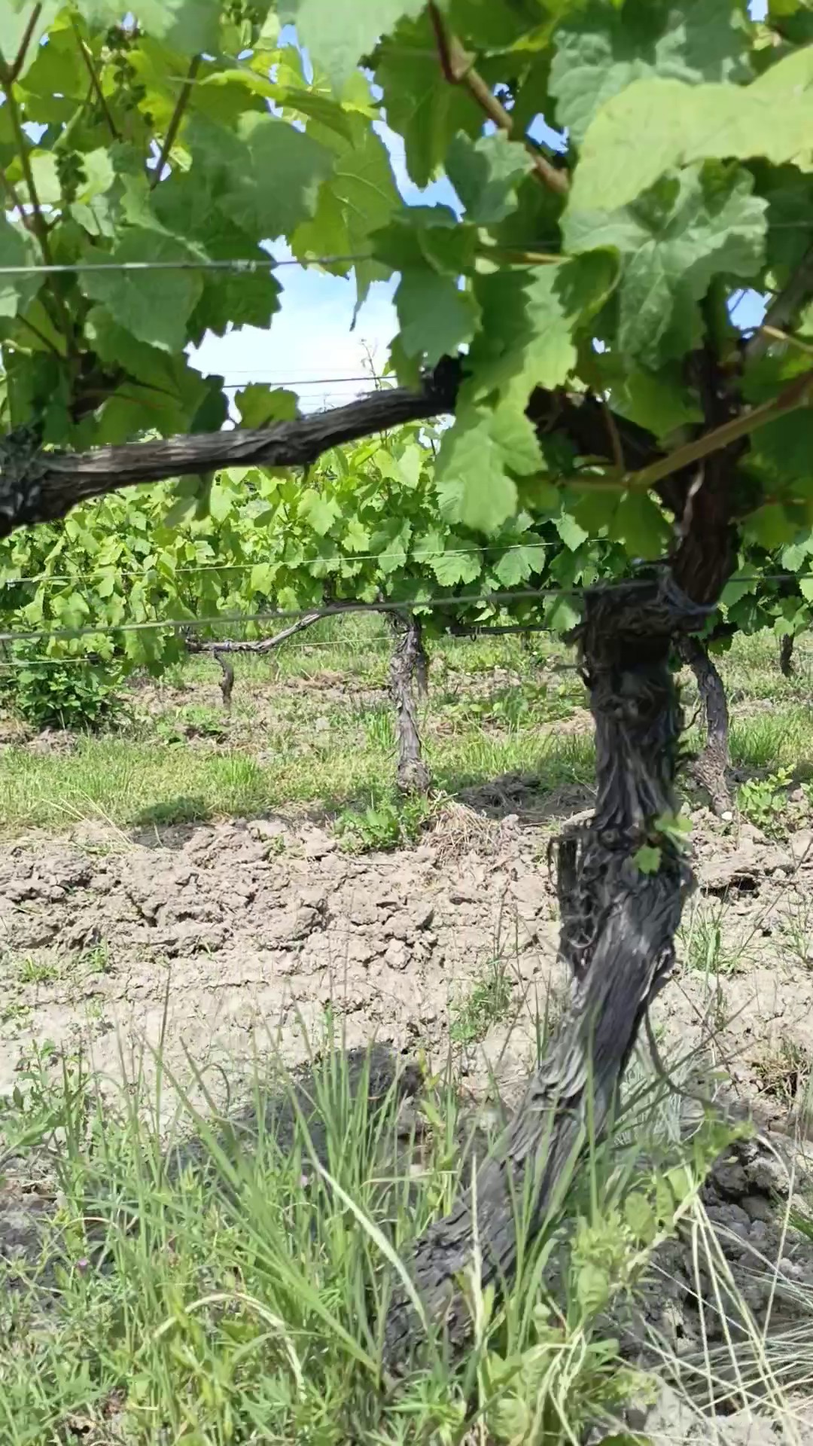vine_trunk: (413, 558, 711, 1342)
